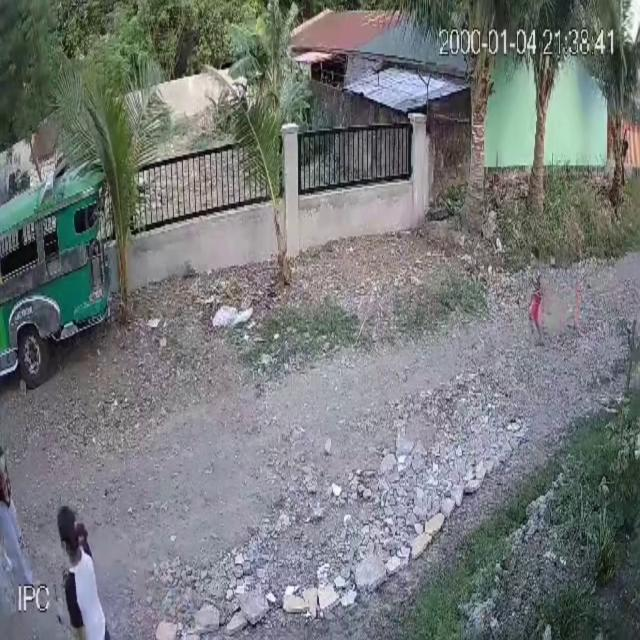running: (522, 245, 557, 356)
walking: (55, 500, 117, 640), (620, 126, 630, 190)
